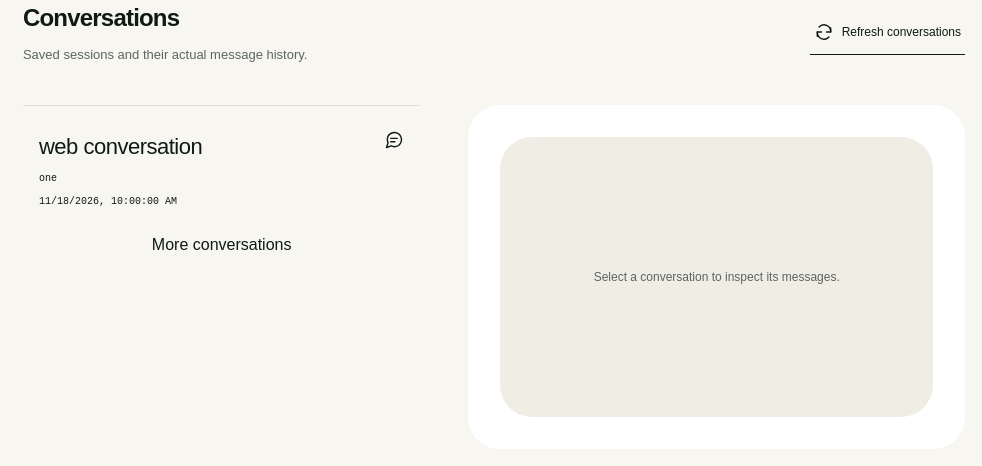
Test: conversation selection loads its actual history and pagination appends sessions
Click the button "web conversation one 11/18/2026, 10:00:00 AM".
click(58, 147)  # box [23,105,420,233]
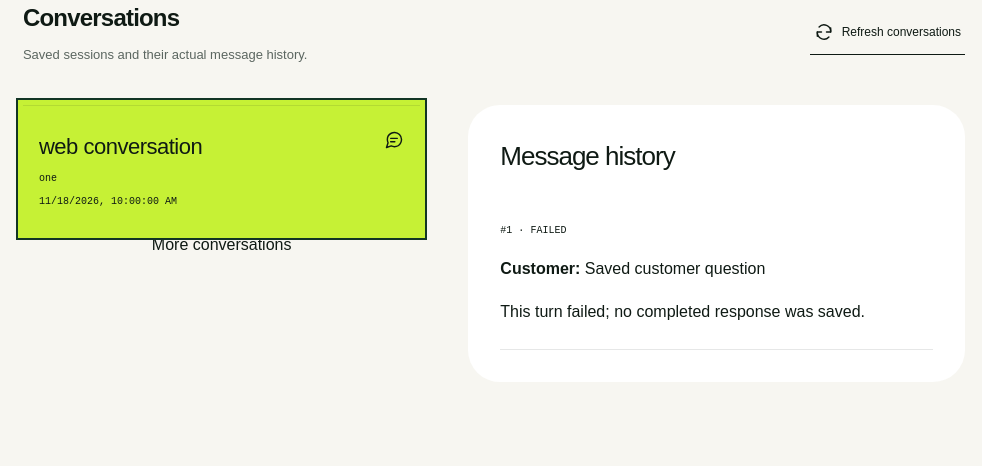
Check: the text "one" is shown, box [39,171,57,186]
Check: the text "Saved customer question" is shown, box [585,260,765,277]
Click the button "More conversations".
click(222, 245)  # box [23,233,420,257]
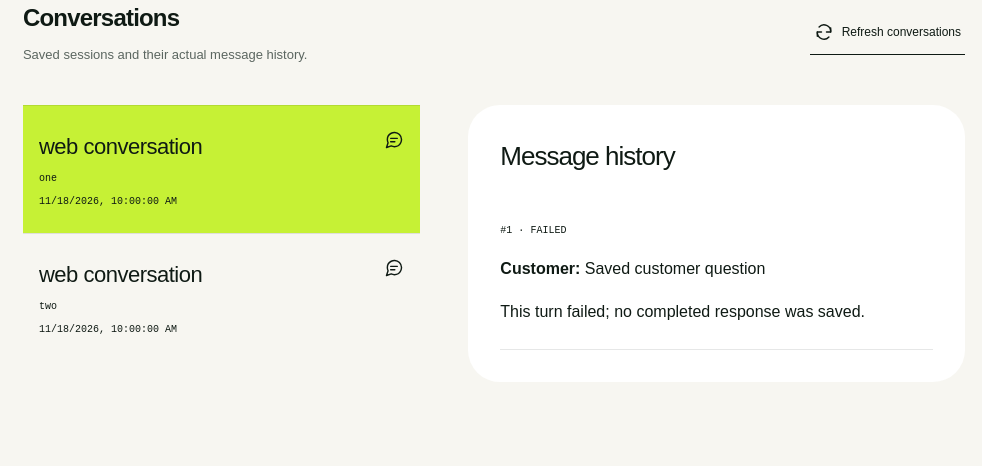
Check: the text "one" is shown, box [39,171,57,186]
Check: the text "two" is shown, box [39,299,57,314]
